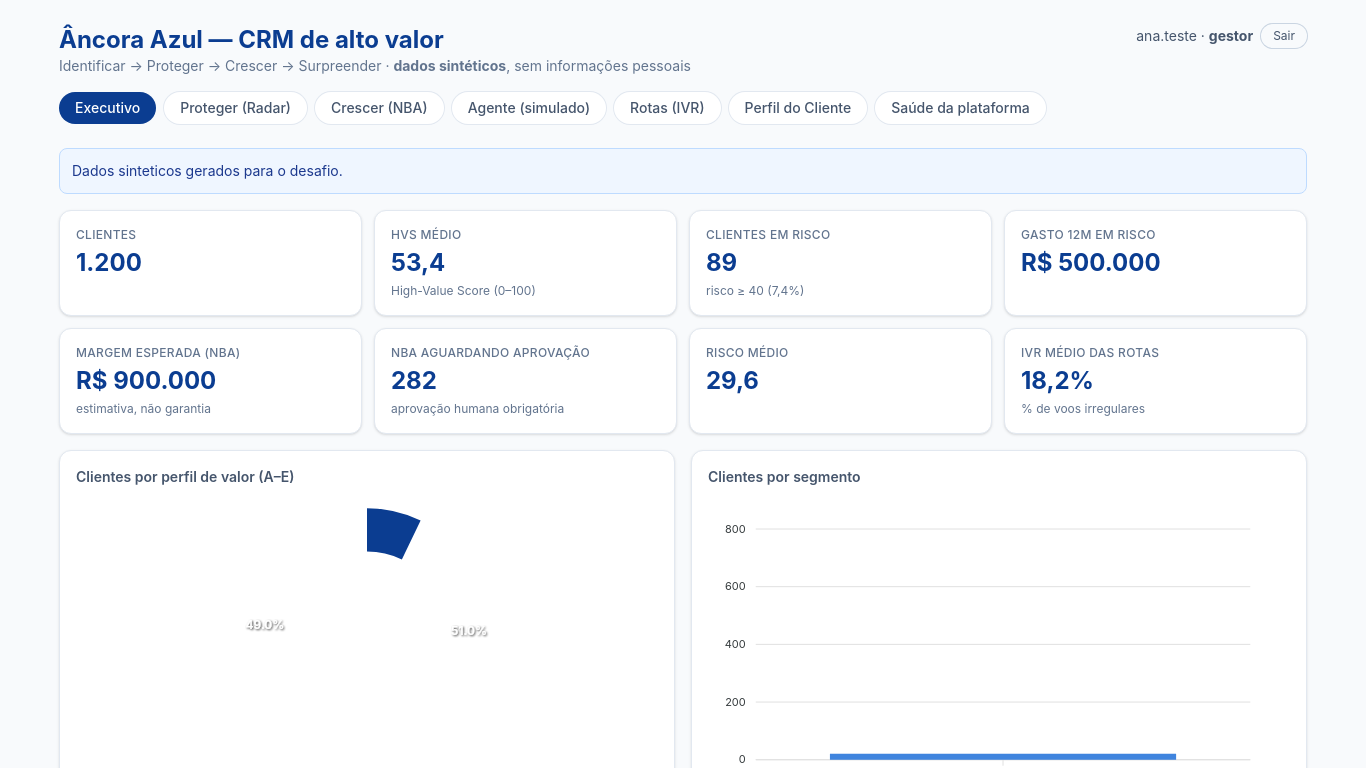
Scenario: login › sair limpa o token
Click the button "Sair": (1284, 36) [1261, 24, 1307, 48]
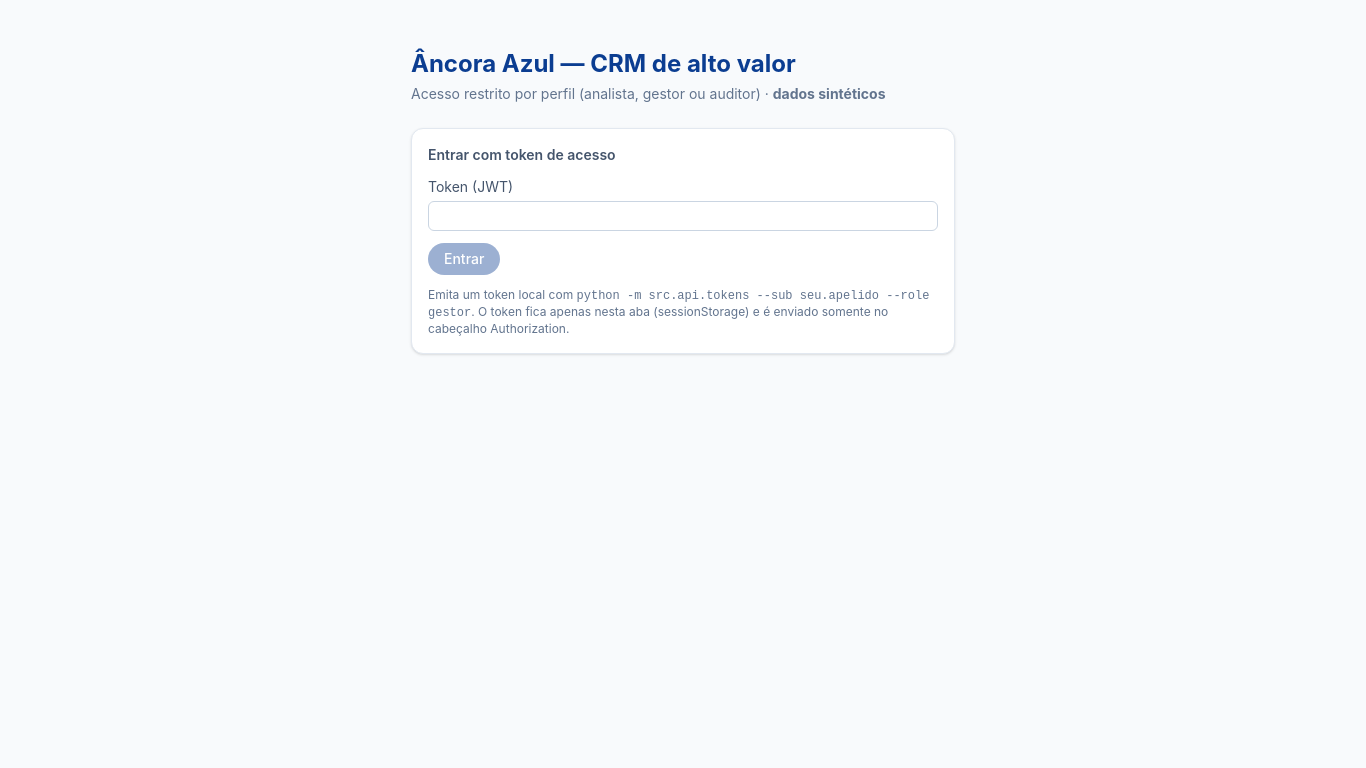
Now the heading "Entrar com token de acesso" is shown, box [428, 146, 616, 163]
